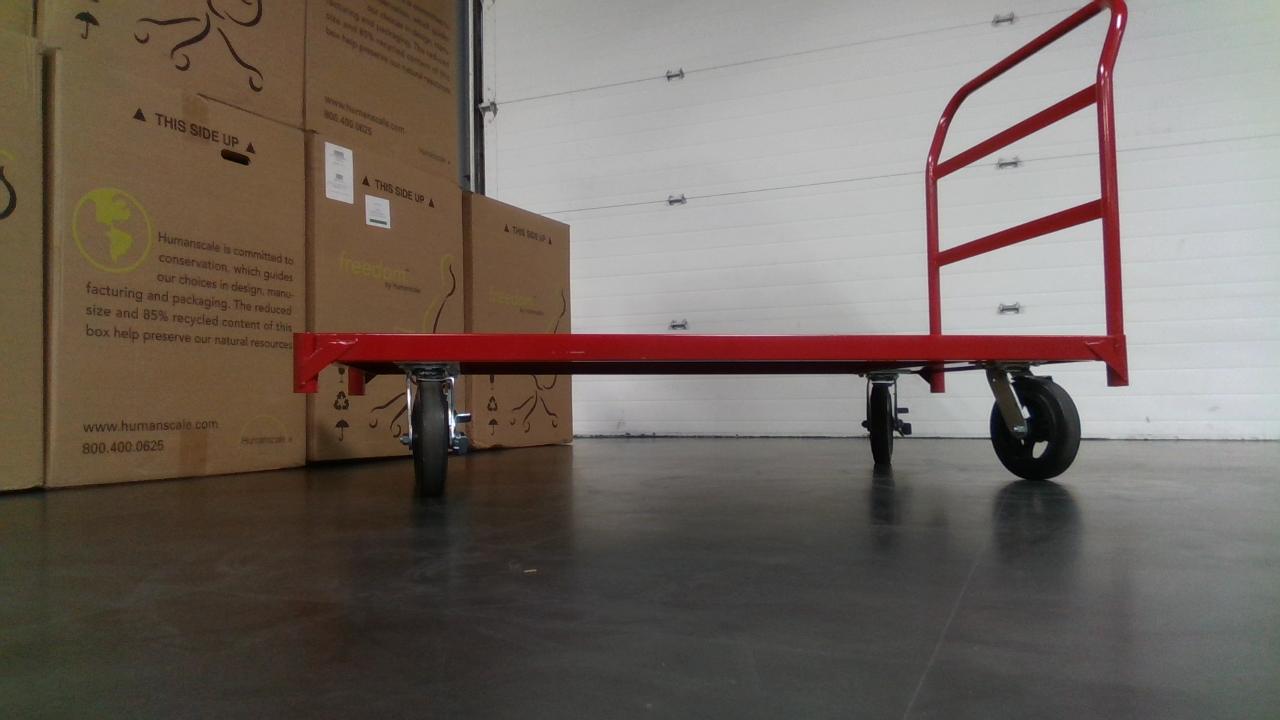Dolly: (282, 0, 1165, 502)
Wheel: (987, 376, 1084, 482), (410, 378, 453, 501), (868, 379, 898, 468)
